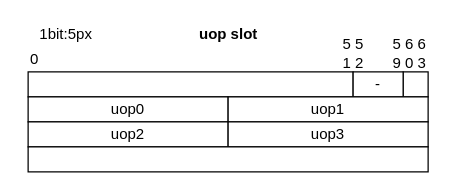
This 461x194 diagram has some shape labels left out. The shapes that lost their labels are listed below. From the top down, each one's box as (x1, y1, x2, y2) in pixels, then its label:
(27, 71, 353, 97): tag
(402, 71, 428, 97): np
(27, 146, 428, 172): imm
